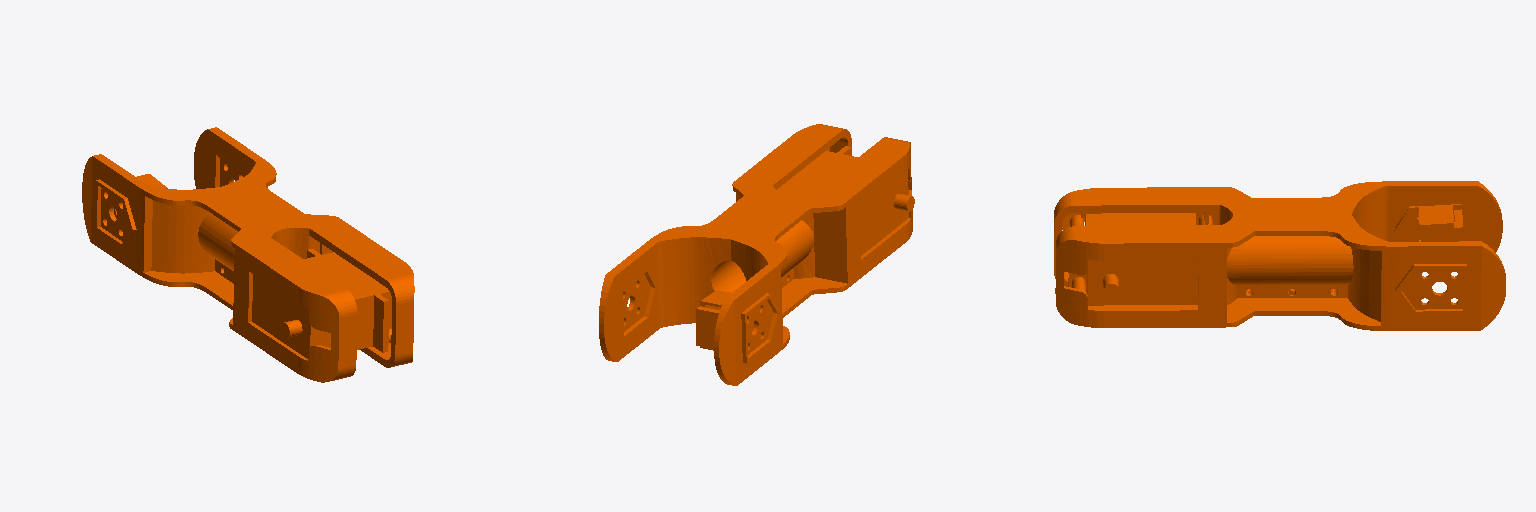
File: lowerNewCoordinate.obj
The picture shows the model from 3 angles: view 1: azimuth 30°, elevation 25°; view 2: azimuth 150°, elevation 25°; view 3: azimuth 270°, elevation 25°; orthographic projection.
Visible parts, largest first — view 1: Component30\LOWER11; view 2: Component30\LOWER11; view 3: Component30\LOWER11.
Part boxes in pixels (x1,y1,x2,y2): Component30\LOWER11: (82,127,414,382); Component30\LOWER11: (599,124,914,385); Component30\LOWER11: (1054,181,1505,330).
Size of the model in its own units: 61.51 by 38.36 by 172.